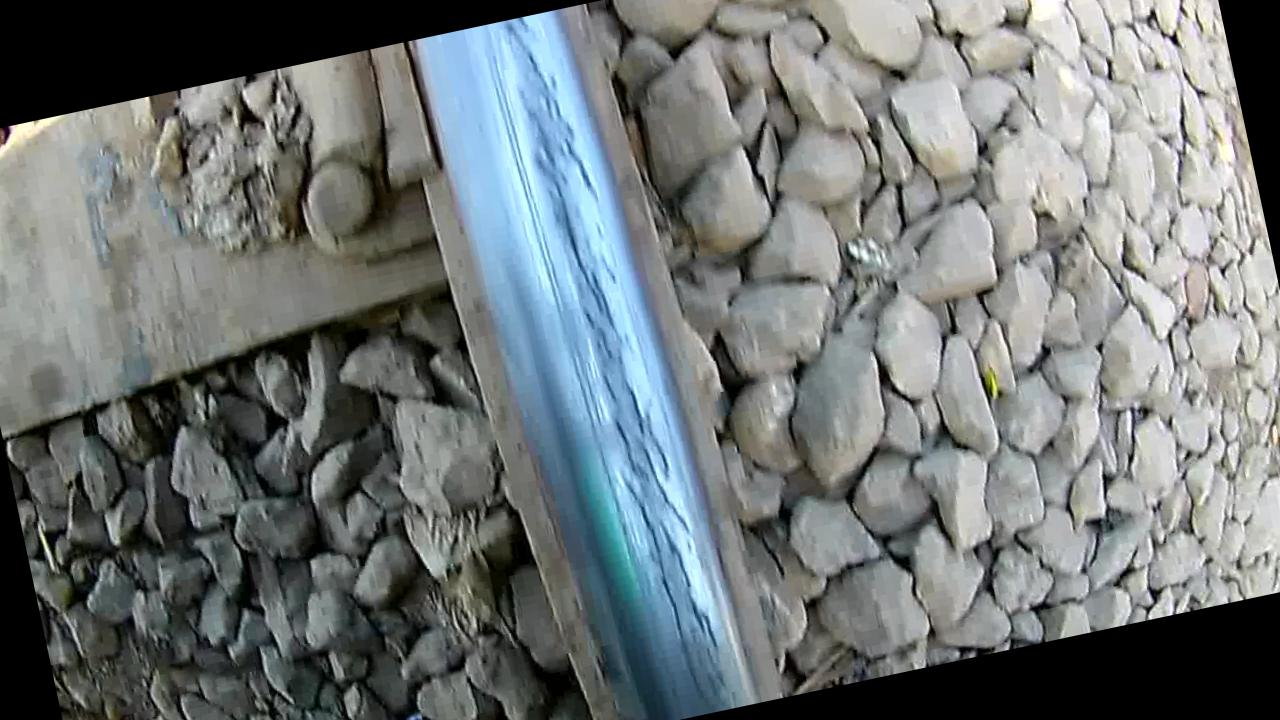normal_track: (492, 3, 735, 720)
